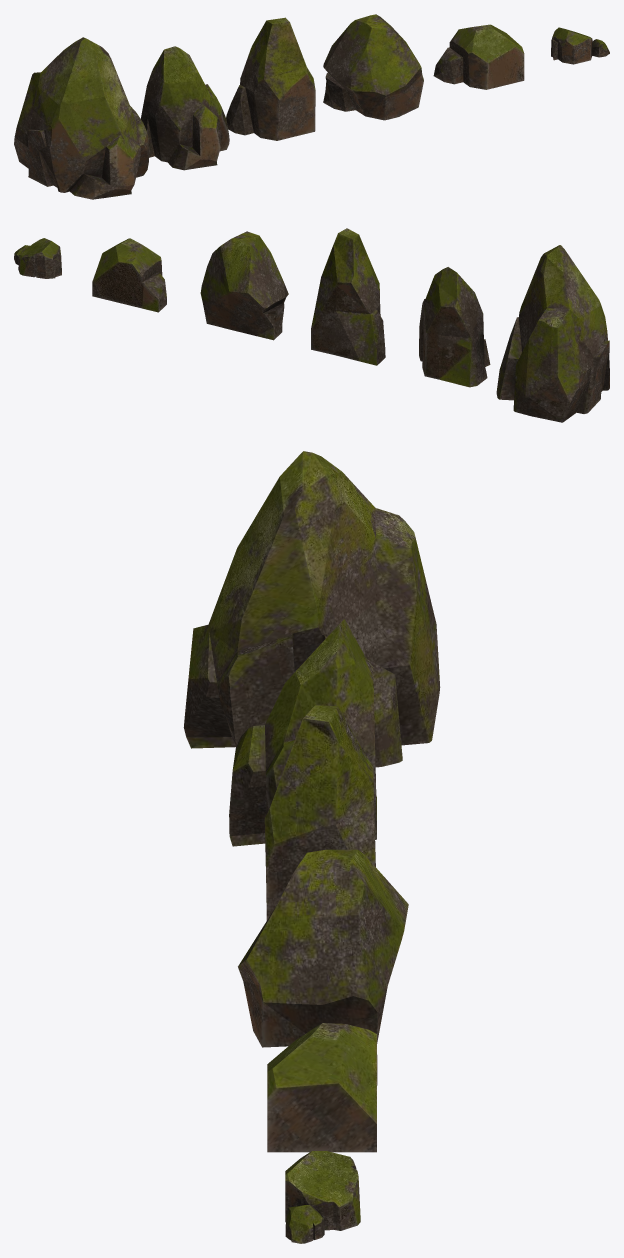
Rendered from fab_rocks.glb.
3 views of the same model, one above another, from view 1: azimuth 30°, elevation 25°; view 2: azimuth 150°, elevation 25°; view 3: azimuth 270°, elevation 25° (orthographic). The views are drawn at different scales.
Parts seen in each view (by area): view 1: Cube.003, Cube.004, Cube.001, Cube.002, Cube, Cube.005; view 2: Cube.003, Cube.001, Cube.004, Cube.002, Cube, Cube.005; view 3: Cube.003, Cube.004, Cube.001, Cube, Cube.002, Cube.005.
Boxes of the visible parts, x1=… form: Cube.003: x1=14, y1=37, x2=148, y2=199; Cube.004: x1=323, y1=14, x2=423, y2=120; Cube.001: x1=226, y1=17, x2=315, y2=140; Cube.002: x1=141, y1=46, x2=229, y2=170; Cube: x1=433, y1=24, x2=524, y2=89; Cube.005: x1=551, y1=27, x2=609, y2=64; Cube.003: x1=496, y1=245, x2=609, y2=422; Cube.001: x1=311, y1=228, x2=385, y2=365; Cube.004: x1=200, y1=231, x2=288, y2=340; Cube.002: x1=419, y1=267, x2=490, y2=387; Cube: x1=92, y1=238, x2=166, y2=312; Cube.005: x1=14, y1=238, x2=61, y2=278; Cube.003: x1=183, y1=451, x2=440, y2=767; Cube.004: x1=238, y1=849, x2=408, y2=1047; Cube.001: x1=264, y1=705, x2=375, y2=920; Cube: x1=267, y1=1023, x2=377, y2=1152; Cube.002: x1=229, y1=619, x2=376, y2=846; Cube.005: x1=285, y1=1151, x2=360, y2=1243.
Size of the model in its own units: 51.85 by 12.39 by 10.08.
1 material, 1 textured.
